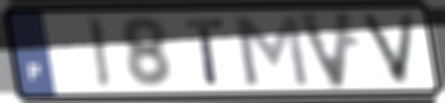8: (118, 13, 178, 92)
I: (83, 14, 116, 92)
M: (228, 12, 313, 89)
T: (181, 16, 228, 87)
V: (293, 9, 359, 93), (356, 11, 420, 88)
